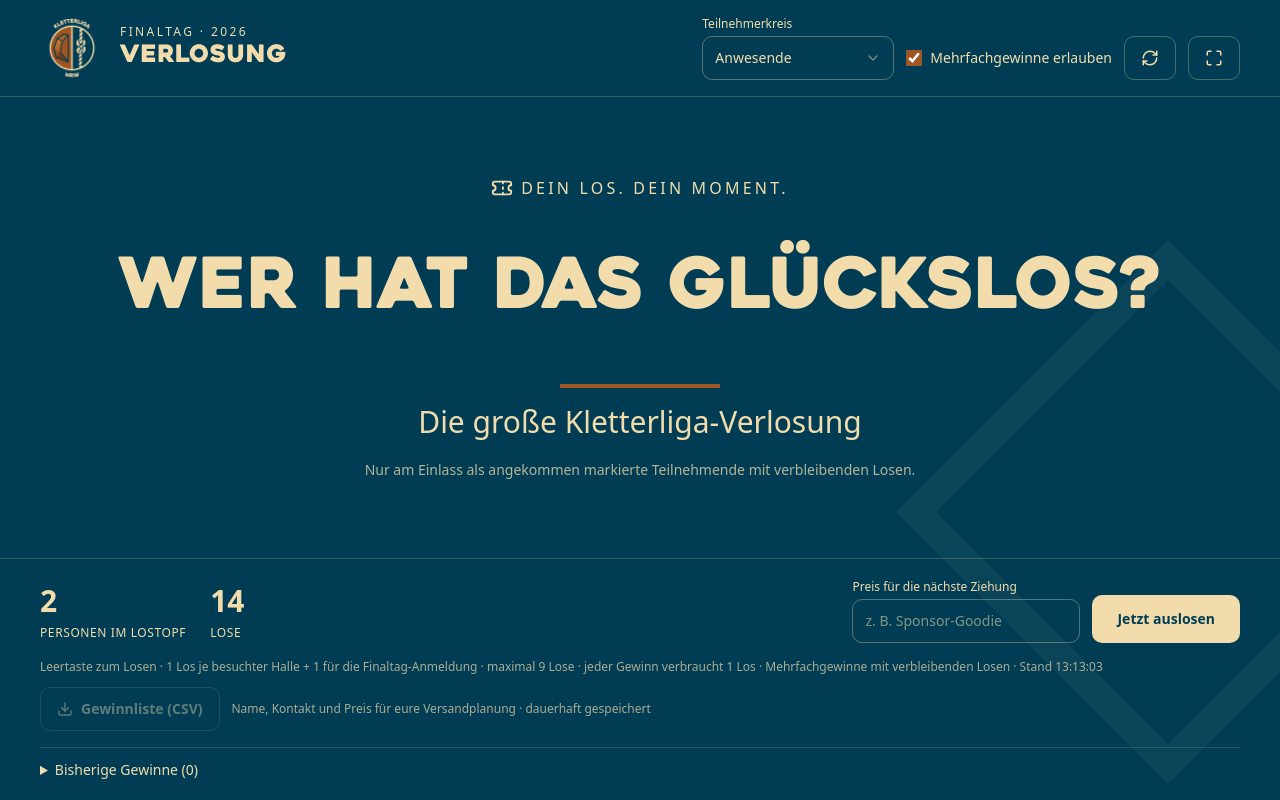
it: TV raffle › draws once on space, ignores autorepeat and locks while animation runs
Later steps or results of the test are not shown.
Step 1. Type "Sponsorpreis" into the field labelled "Preis für die nächste Ziehung" → (966, 621), box [852,599,1080,643]
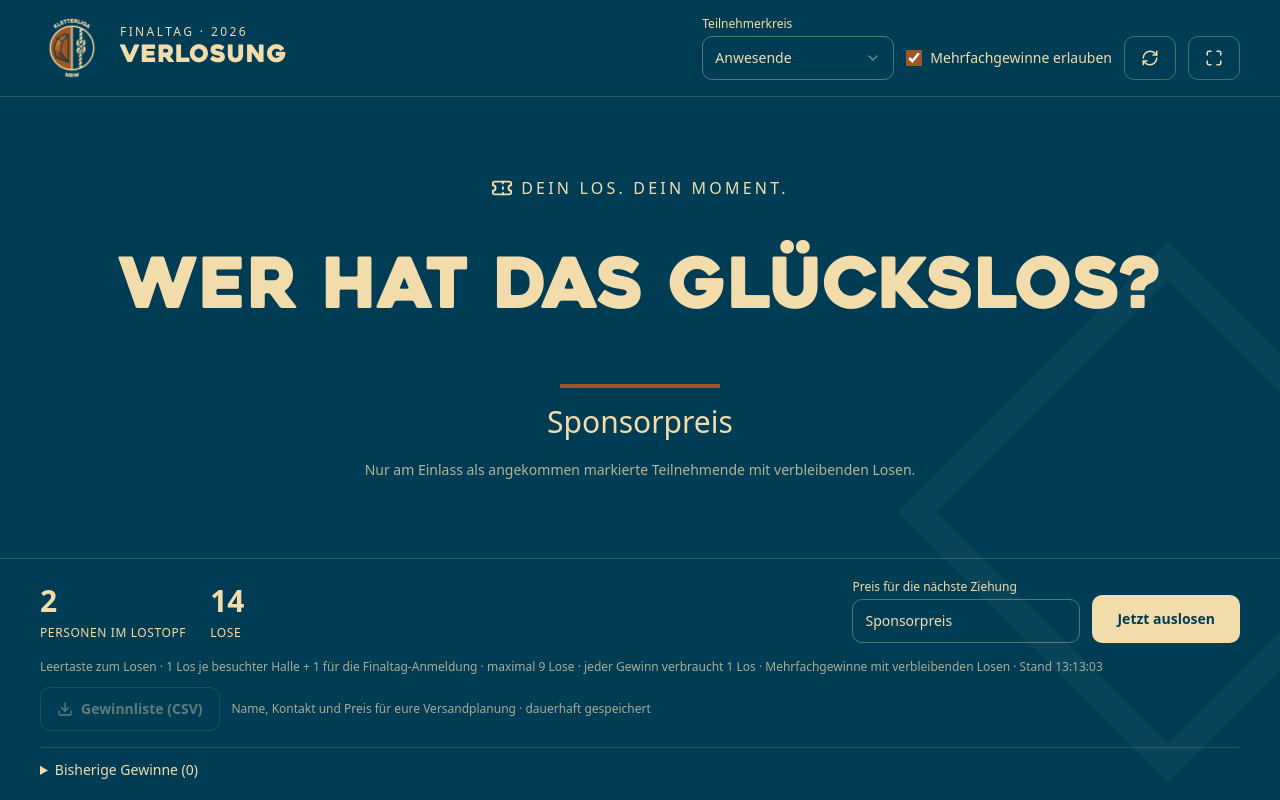
Step 2. Press Space
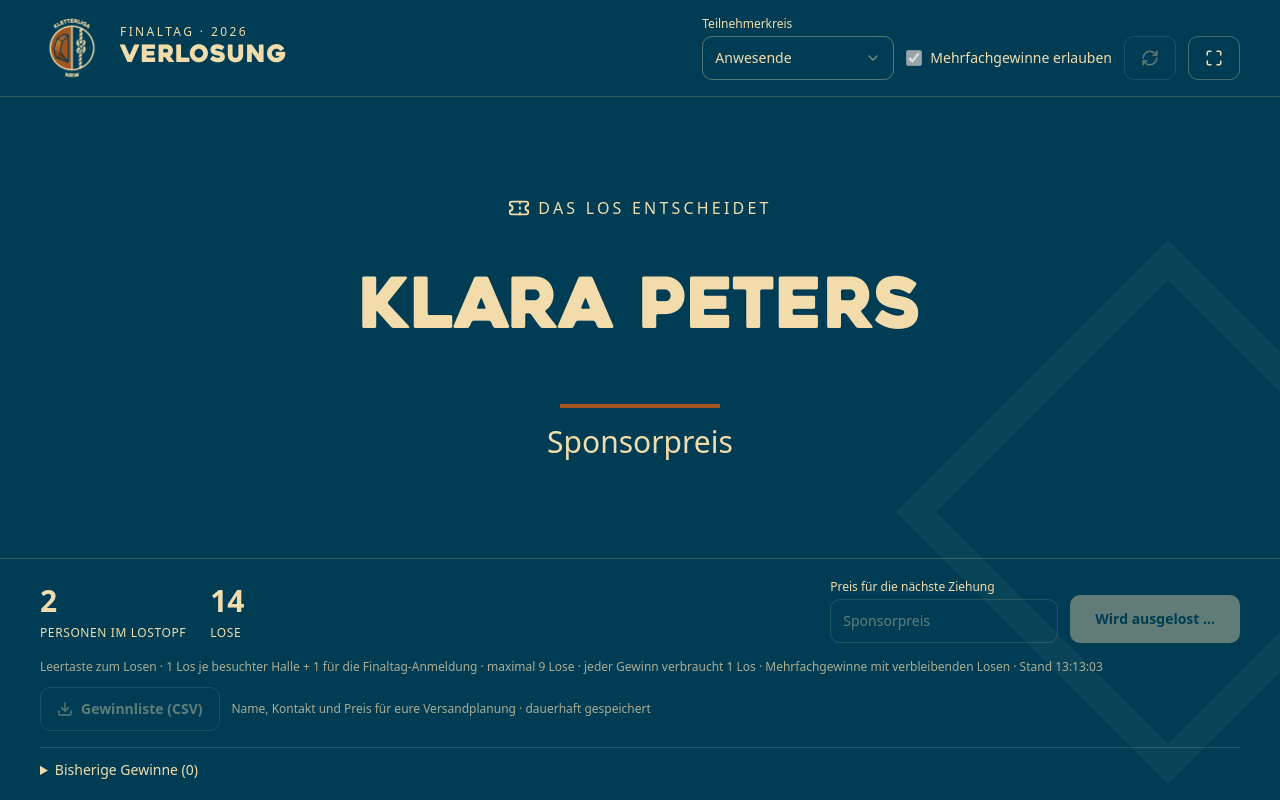
Step 3. Press Space
Step 4. Press Space
Wait 4000 ms
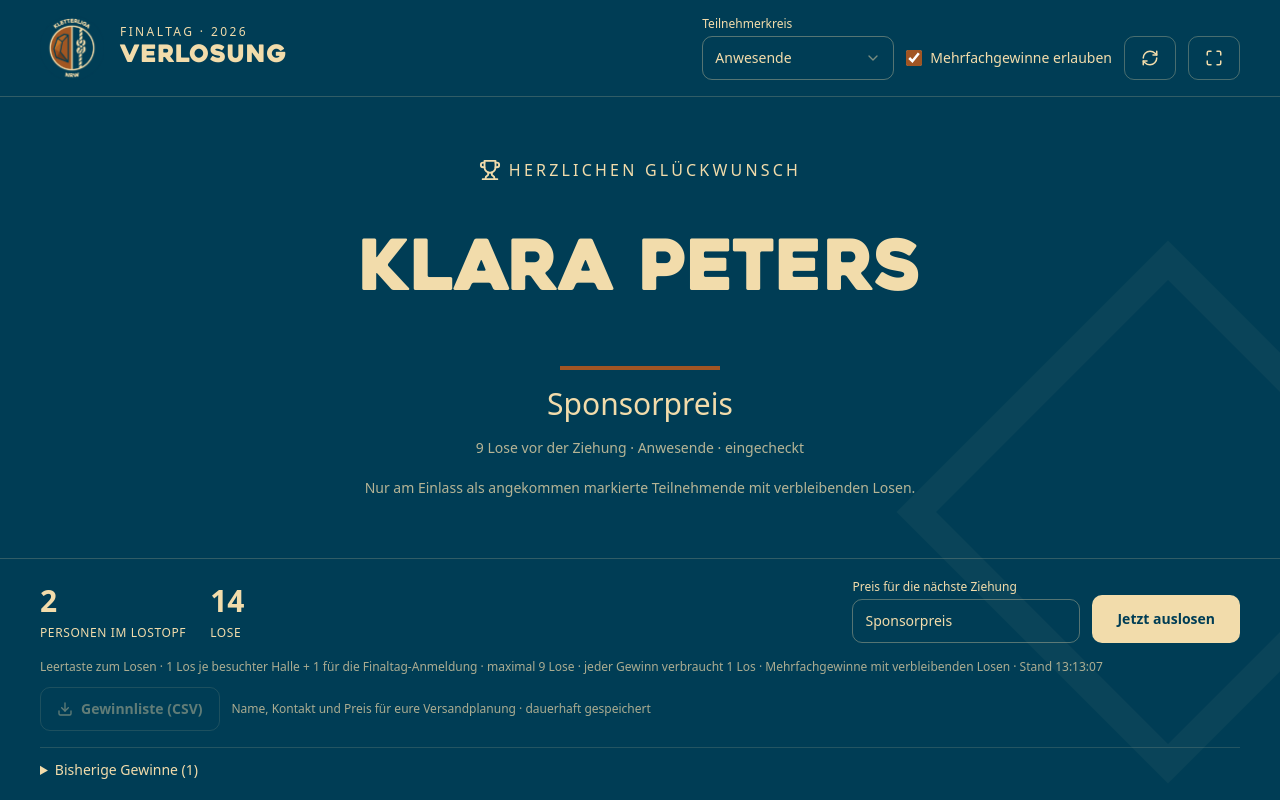
Expected: the text "Herzlichen Glückwunsch" is shown, [479,158,801,182]
